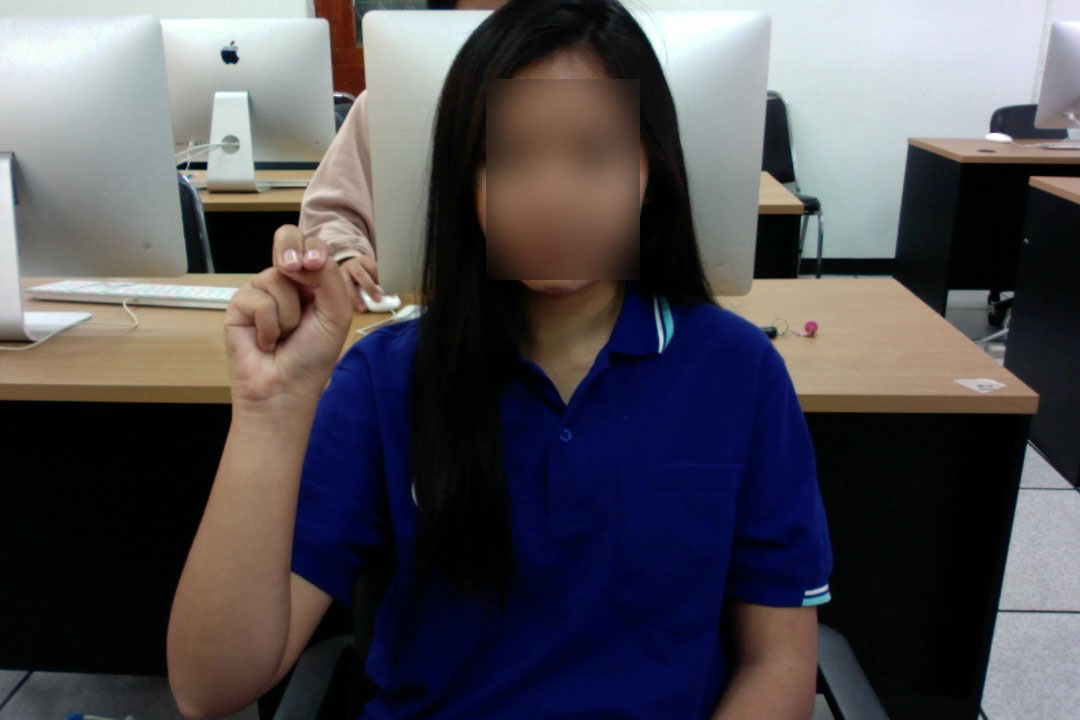nor: (217, 222, 361, 434)
